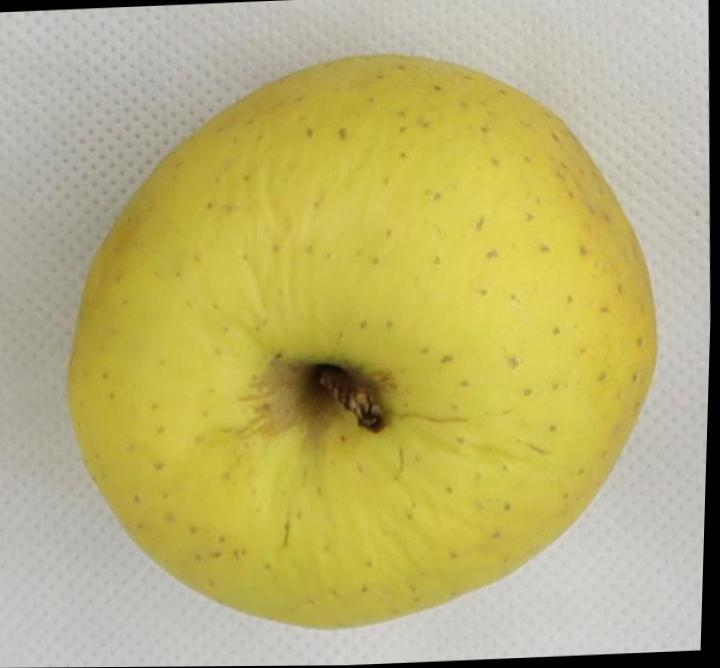apple: (69, 56, 656, 627)
bruise_discoloration: (248, 359, 349, 445)
